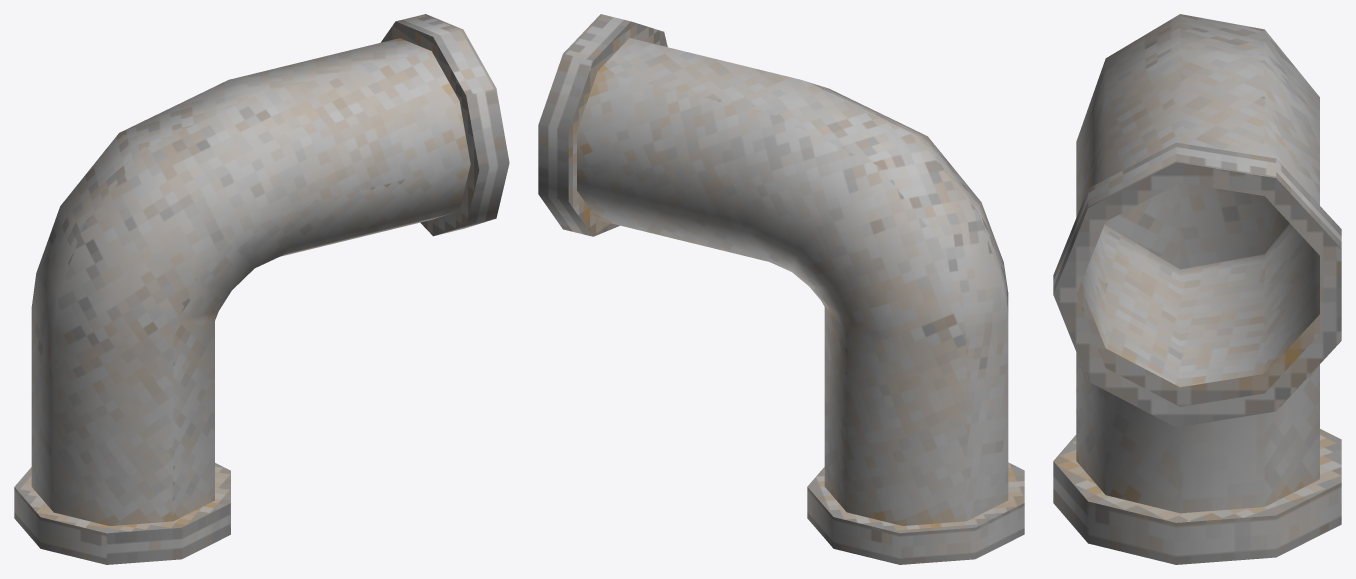
The model's file is PipeBend.fbx.
3 views of the same model, side by side, from view 1: azimuth 30°, elevation 25°; view 2: azimuth 150°, elevation 25°; view 3: azimuth 270°, elevation 25° (orthographic). The views are drawn at different scales.
Visible parts, largest first — view 1: PipeBend; view 2: PipeBend; view 3: PipeBend.
Part boxes in pixels (x1,y1,x2,y2): PipeBend: (14,14,509,564); PipeBend: (538,14,1024,564); PipeBend: (1053,14,1341,564).
Size of the model in its own units: 7.45 by 16.78 by 15.78.
